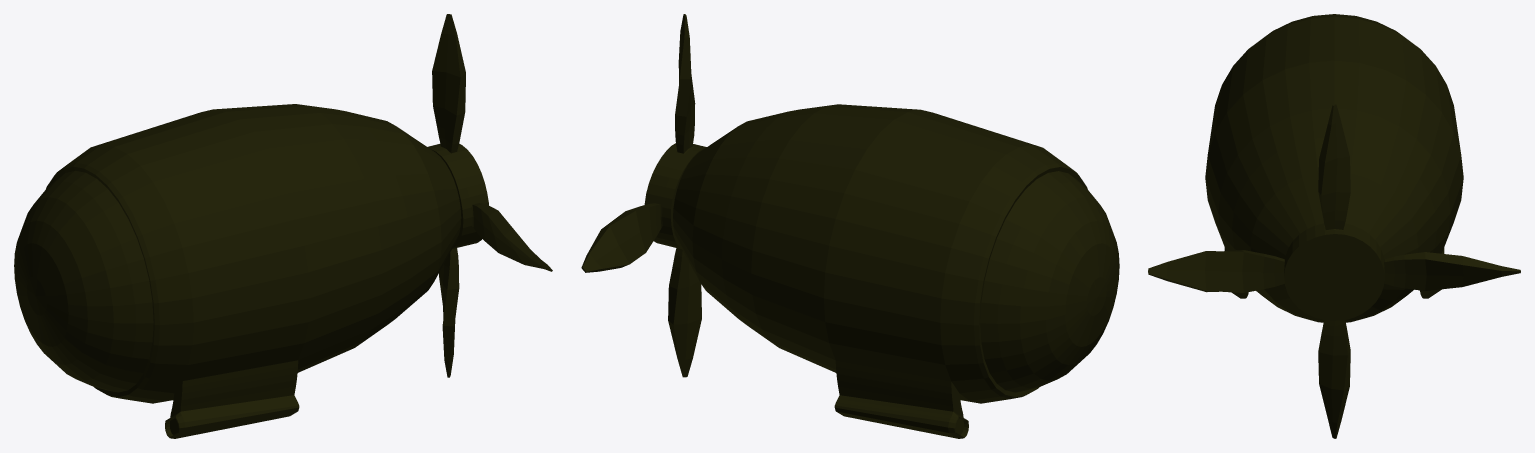
File: submarine.obj
The picture shows the model from 3 angles, left to right: view 1: azimuth 30°, elevation 25°; view 2: azimuth 150°, elevation 25°; view 3: azimuth 270°, elevation 25°; orthographic projection. The views are drawn at different scales.
Visible parts, largest first — view 1: Cylinder, Cylinder.001_Cylinder.003; view 2: Cylinder, Cylinder.001_Cylinder.003; view 3: Cylinder, Cylinder.001_Cylinder.003.
Part boxes in pixels (left/top/right/bottom): Cylinder: left=14, top=104, right=461, bottom=438; Cylinder.001_Cylinder.003: left=428, top=14, right=552, bottom=377; Cylinder: left=673, top=104, right=1119, bottom=438; Cylinder.001_Cylinder.003: left=581, top=14, right=706, bottom=377; Cylinder: left=1205, top=14, right=1463, bottom=322; Cylinder.001_Cylinder.003: left=1148, top=104, right=1520, bottom=438.
Size of the model in its own units: 1.35 by 1.09 by 1.11.
